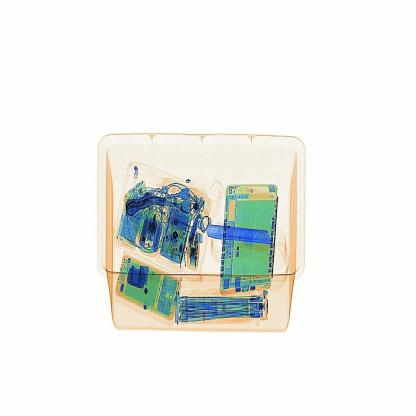pliers: (200, 212, 278, 258)
